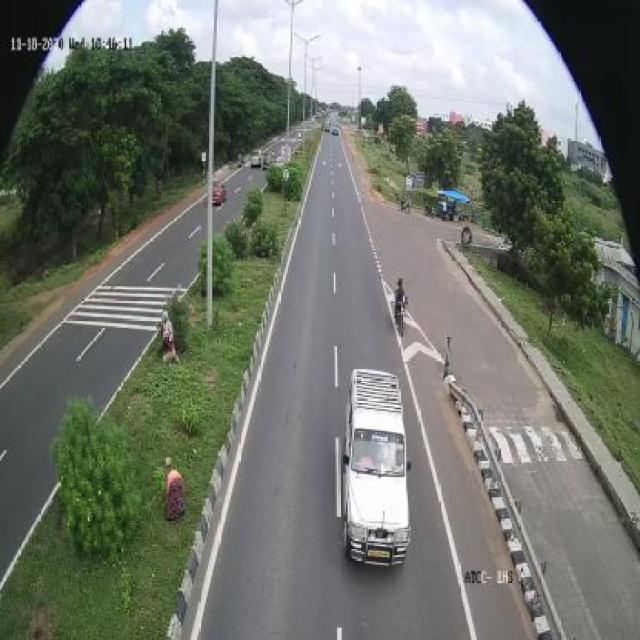car: (336, 368, 416, 570)
